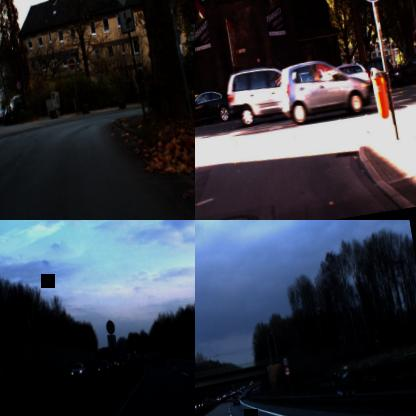NO ENTRY: (66, 57, 75, 70)
no overtaking: (283, 364, 291, 376)
priority road: (105, 0, 135, 11)
speed limit 120: (280, 355, 288, 366)
speed limit 30: (14, 78, 22, 90)
speed limit 80: (104, 319, 116, 334)
